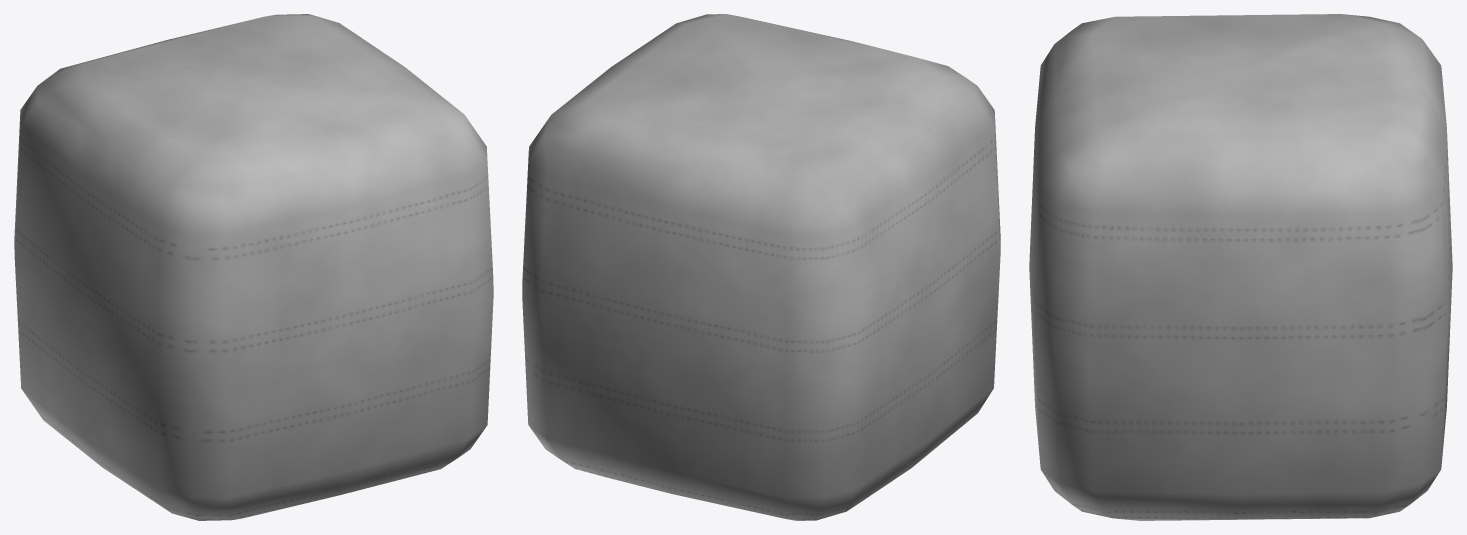
File: LeftUpperArm_C1.fbx
3 renders of one model, left to right at view 1: azimuth 30°, elevation 25°; view 2: azimuth 150°, elevation 25°; view 3: azimuth 270°, elevation 25°, orthographic. The views are drawn at different scales.
Visible parts, largest first — view 1: Civ_BuzoCapucha_LeftUpperArm_C1; view 2: Civ_BuzoCapucha_LeftUpperArm_C1; view 3: Civ_BuzoCapucha_LeftUpperArm_C1.
Part boxes in pixels (<box>): Civ_BuzoCapucha_LeftUpperArm_C1: <box>14,14,493,520</box>; Civ_BuzoCapucha_LeftUpperArm_C1: <box>522,14,1000,520</box>; Civ_BuzoCapucha_LeftUpperArm_C1: <box>1029,14,1452,520</box>.
Bounding box in the file's own units: 1.29 × 1.31 × 1.29.
